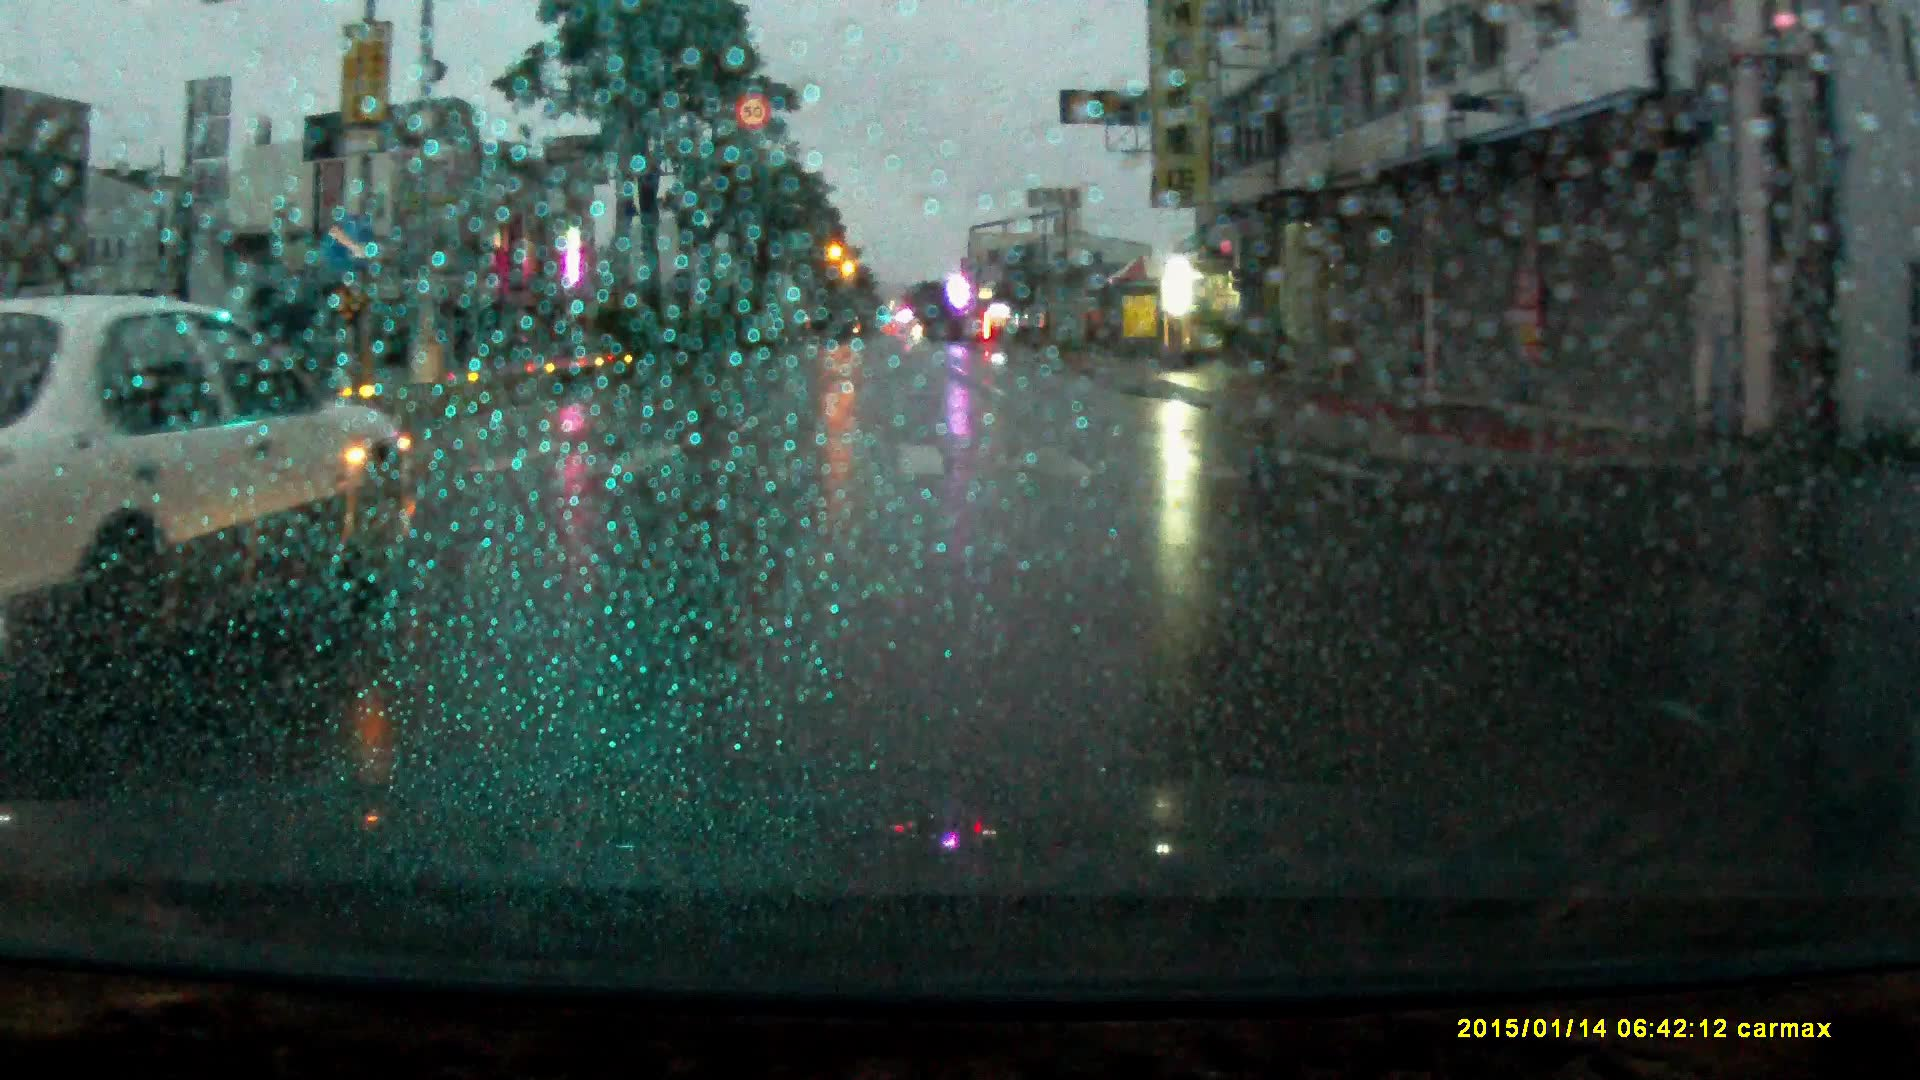vehicle: (1, 290, 426, 674)
